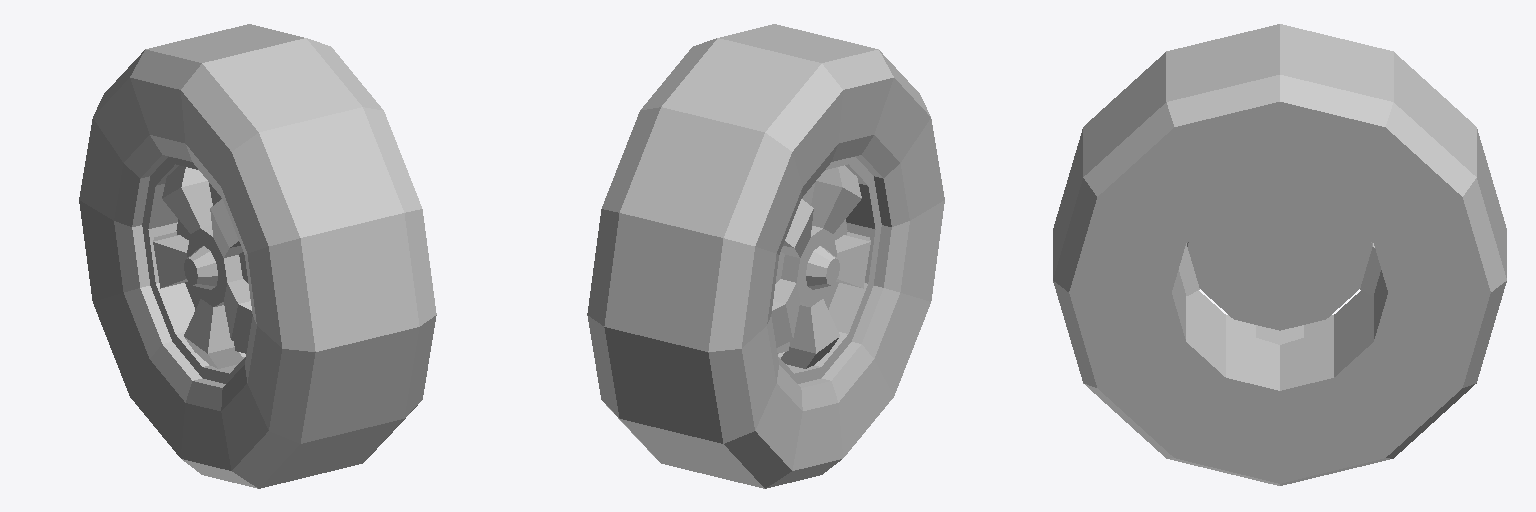
Rendered from muscle_car_wheel.obj.
The picture shows the model from 3 angles: view 1: azimuth 30°, elevation 25°; view 2: azimuth 150°, elevation 25°; view 3: azimuth 270°, elevation 25°; orthographic projection.
Parts seen in each view (by area): view 1: SM_Veh_Car_Muscle_Wheel_rr_Mesh.001; view 2: SM_Veh_Car_Muscle_Wheel_rr_Mesh.001; view 3: SM_Veh_Car_Muscle_Wheel_rr_Mesh.001.
Part boxes in pixels (x1,y1,x2,y2): SM_Veh_Car_Muscle_Wheel_rr_Mesh.001: (79,24,436,488); SM_Veh_Car_Muscle_Wheel_rr_Mesh.001: (587,24,944,488); SM_Veh_Car_Muscle_Wheel_rr_Mesh.001: (1053,24,1506,485).
Bounding box in the file's own units: 0.3106 × 0.8116 × 0.8116.